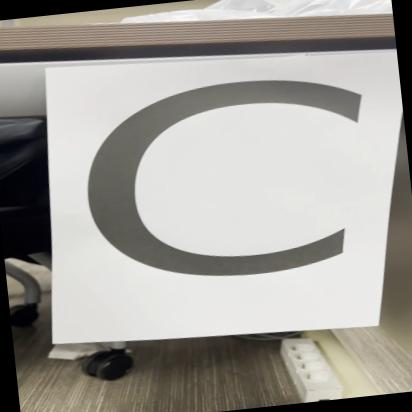seat: (32, 37, 378, 371)
